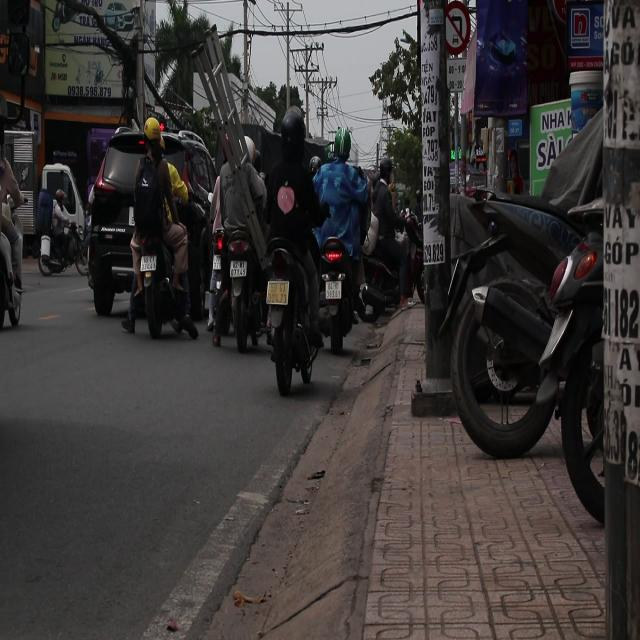car: (81, 94, 224, 336)
motorbike: (122, 194, 207, 362), (205, 179, 269, 357), (349, 199, 433, 334), (315, 237, 360, 356), (38, 198, 87, 276)
truck: (0, 126, 86, 278)
